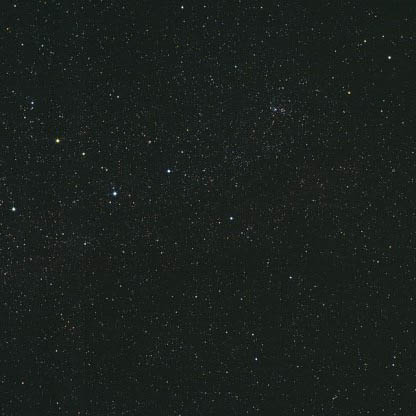Cassiopeia: (46, 127, 93, 164), (220, 198, 242, 230), (158, 157, 180, 183), (103, 186, 131, 204), (3, 200, 22, 219)
